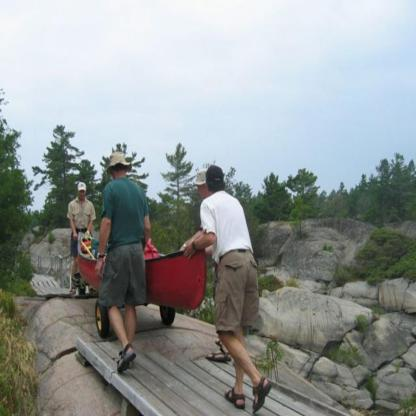face: (198, 182, 207, 202), (79, 189, 86, 199)
